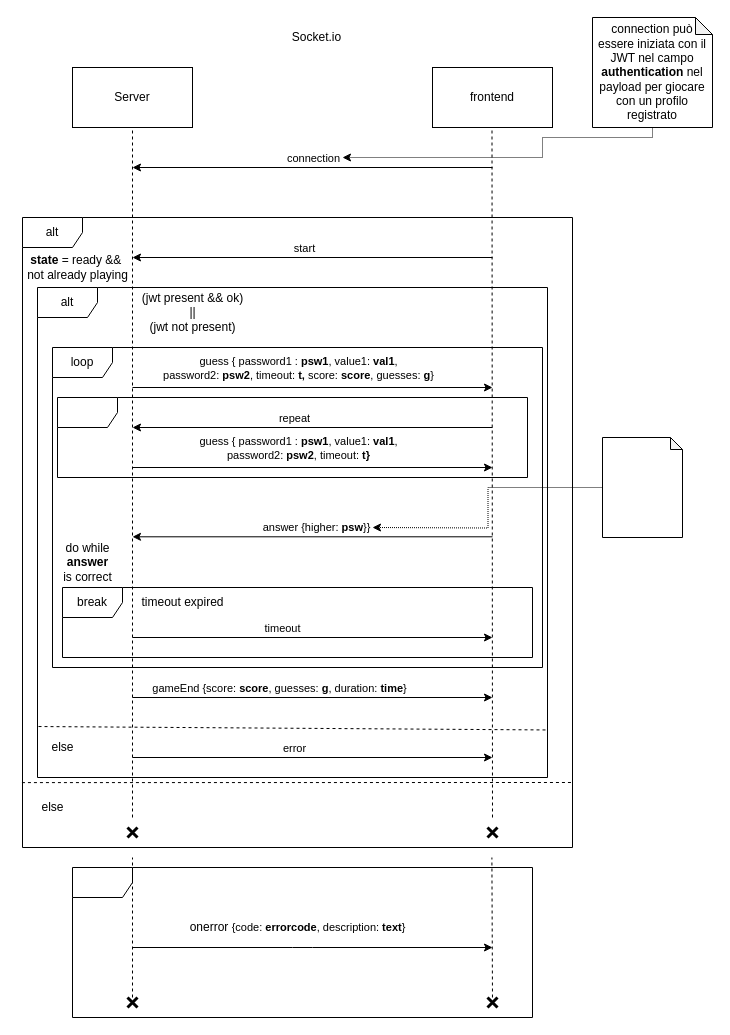
Some shapes in this 730 by 1035 pixel diagram are drawn without their labels. The shapes that lost their labels are listed below. From the top down, each one's box as (x1, y1, x2, y2) in pixels, then its label:
(56, 396, 528, 478): opt
(602, 436, 682, 538): psw può valere o 1 o 2
(72, 866, 532, 1018): errors
